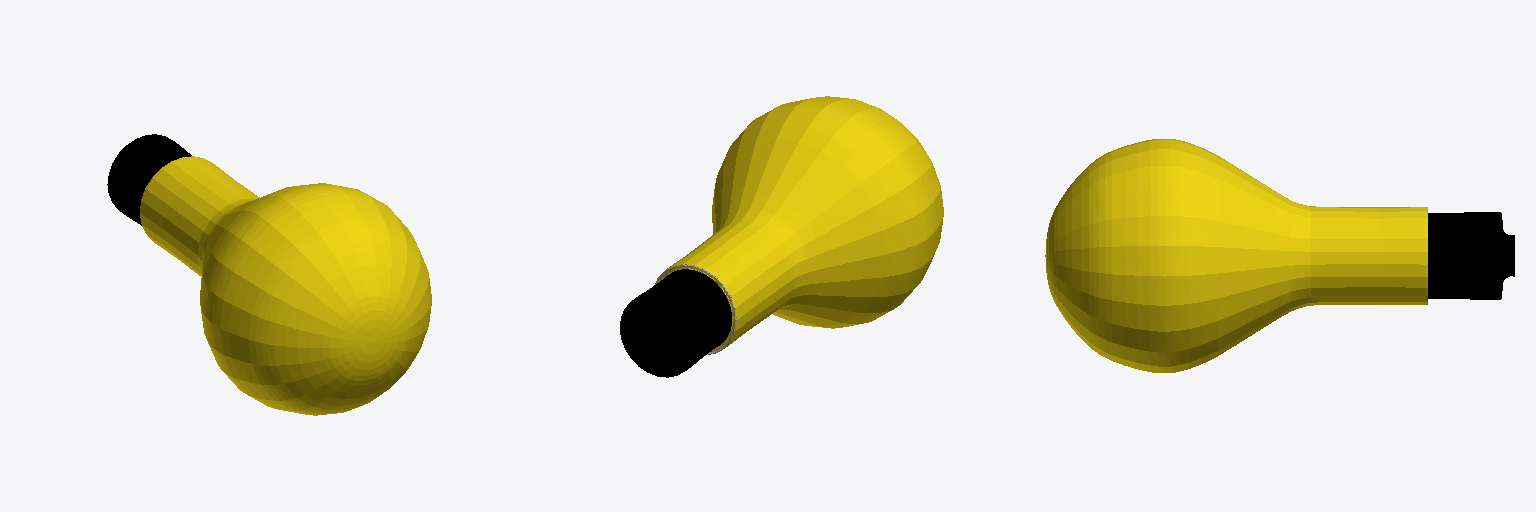
File: lampadina.obj
The picture shows the model from 3 angles: view 1: azimuth 30°, elevation 25°; view 2: azimuth 150°, elevation 25°; view 3: azimuth 270°, elevation 25°; orthographic projection.
Visible parts, largest first — view 1: Object.1, Object.2; view 2: Object.1, Object.2; view 3: Object.1, Object.2.
Boxes of the visible parts, box(x1,y1,x2,y2) form: Object.1: box(140, 156, 431, 415); Object.2: box(107, 134, 191, 225); Object.1: box(657, 96, 943, 351); Object.2: box(620, 269, 731, 377); Object.1: box(1045, 139, 1426, 372); Object.2: box(1428, 212, 1514, 299).
Bounding box in the file's own units: 21.69 × 21.67 × 43.1.